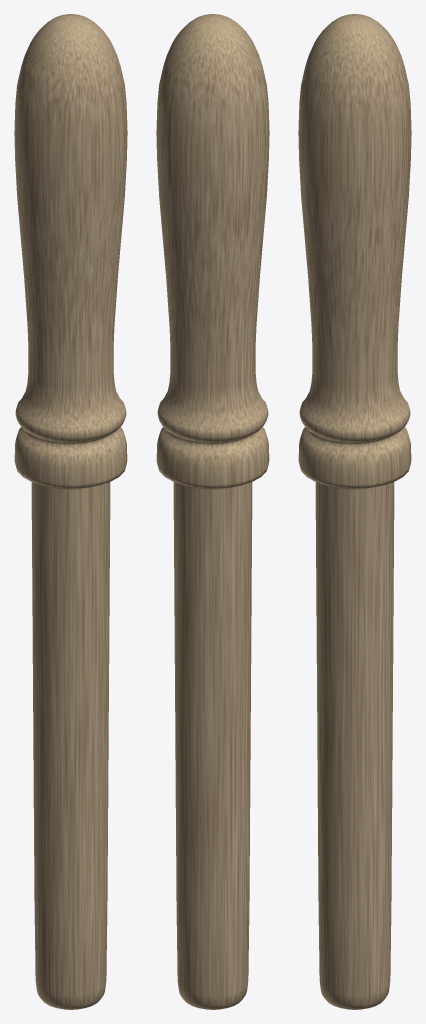
3 renders of one model, left to right at view 1: azimuth 30°, elevation 25°; view 2: azimuth 150°, elevation 25°; view 3: azimuth 330°, elevation 25°, orthographic.
Parts seen in each view (by area): view 1: NEW675_LOD2; view 2: NEW675_LOD2; view 3: NEW675_LOD2.
Boxes of the visible parts, x1=… form: NEW675_LOD2: x1=14, y1=14, x2=127, y2=1009; NEW675_LOD2: x1=156, y1=14, x2=269, y2=1009; NEW675_LOD2: x1=298, y1=14, x2=411, y2=1009.
Bounding box in the file's own units: 0.0265 × 0.255 × 0.0265.
1 material, 1 textured.
